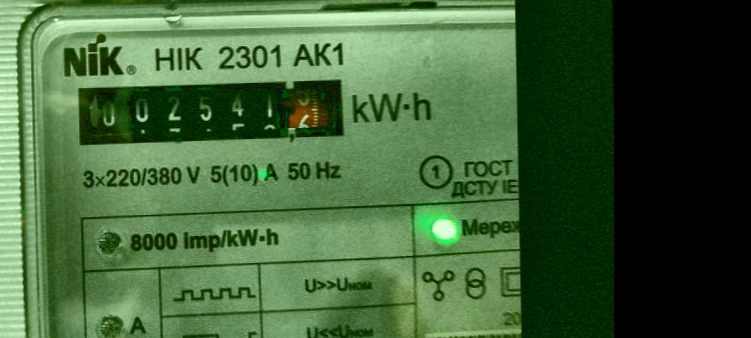0: (132, 92, 151, 126), (101, 99, 118, 128)
1: (260, 87, 276, 120)
2: (163, 91, 184, 125)
4: (229, 89, 246, 120)
5: (197, 92, 213, 125)
6: (295, 110, 311, 132)
screen: (63, 65, 365, 161)
